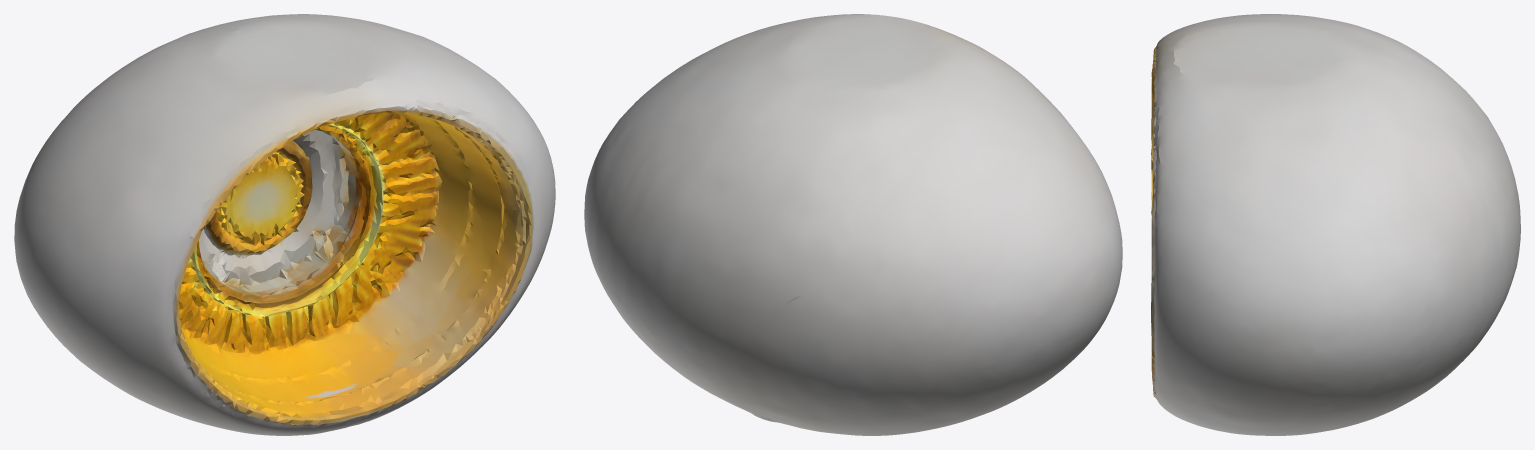
The model's file is valkyrie_engine_main.glb.
3 renders of one model, left to right at view 1: azimuth 30°, elevation 25°; view 2: azimuth 150°, elevation 25°; view 3: azimuth 270°, elevation 25°, orthographic.
Visible parts, largest first — view 1: valkyrie_engine_main; view 2: valkyrie_engine_main; view 3: valkyrie_engine_main.
Part boxes in pixels (left/top/right/bottom): valkyrie_engine_main: left=14, top=14, right=555, bottom=435; valkyrie_engine_main: left=584, top=14, right=1122, bottom=435; valkyrie_engine_main: left=1151, top=14, right=1520, bottom=435.
Bounding box in the file's own units: 1.9 × 1.25 × 1.25.
1 material, 1 textured.
